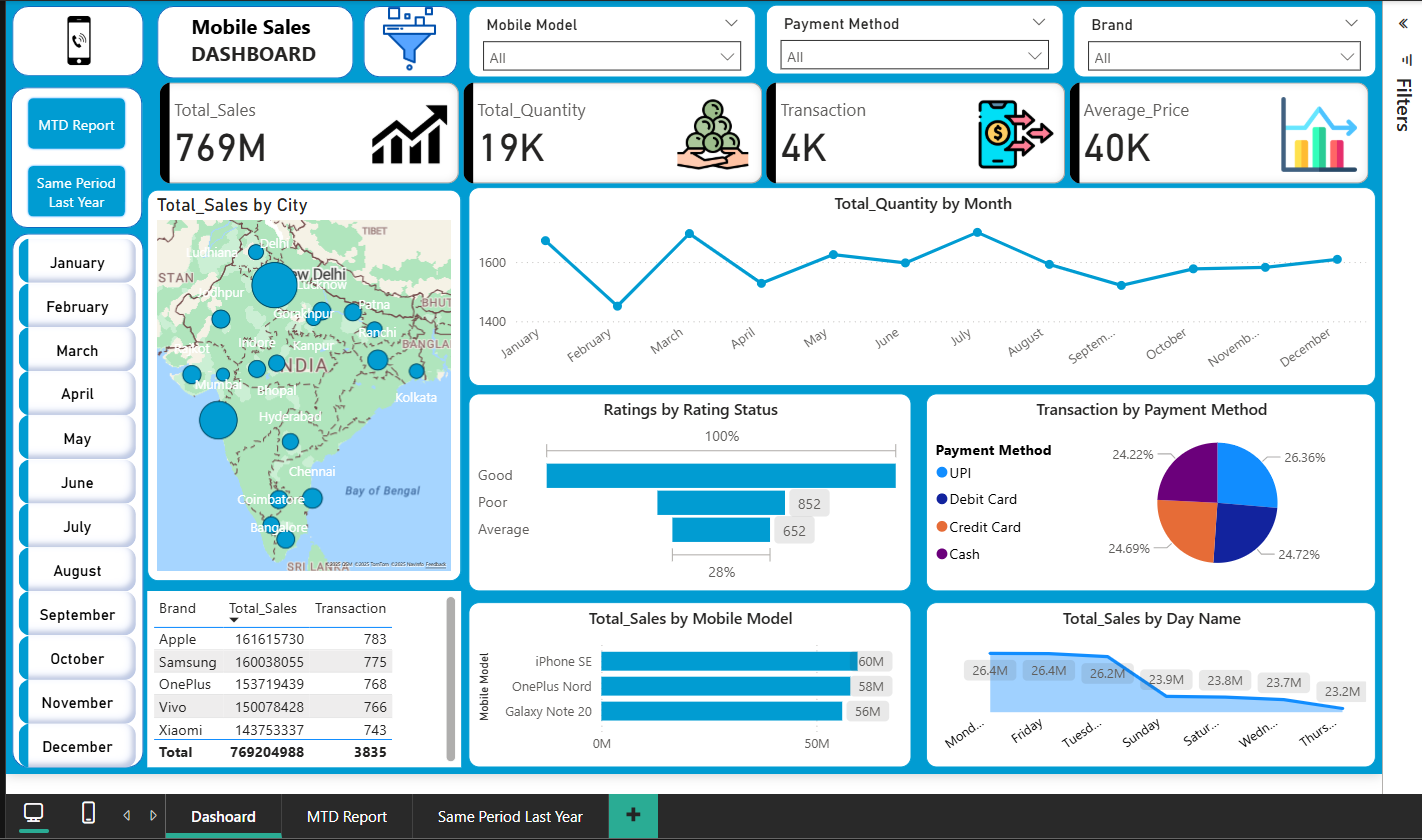

The dashboard page shown, as its layout file describes it:
{"tool":"powerbi","page":{"name":"Dashoard","canvas":[1280,720],"ordinal":0},"visuals":[{"type":"shape","box":[5.8,4.7,122.1,65.1],"z":0},{"type":"image","box":[26.7,3.5,82.6,66.3],"z":1000},{"type":"shape","box":[4.9,80.2,122.2,131],"z":2000},{"type":"shape","box":[5.8,216.3,122.1,497],"z":3000},{"type":"advancedSlicerVisual","fields":{"Values":["Custom_Calender.Date.Variation.Date Hierarchy.Month"]},"box":[7.4,216.1,119.8,503.7],"z":4000},{"type":"cardVisual","fields":{"Data":["Sales_Data.Total_Sales","Sales_Data.Total_Quantity","Sales_Data.Transaction","Sales_Data.Average_Price"]},"box":[138.4,70.9,1136,104.7],"z":5000},{"type":"slicer","fields":{"Values":["Sales_Data.Mobile Model"]},"box":[430.2,4.7,267.4,66.3],"z":6000},{"type":"slicer","fields":{"Values":["Sales_Data.Payment Method"]},"box":[707,3.5,276.7,65.1],"z":7000},{"type":"slicer","fields":{"Values":["Sales_Data.Brand"]},"box":[993,4.7,281.4,66.3],"z":8000},{"type":"shape","box":[332.6,4.7,87.2,66.3],"z":9000},{"type":"image","box":[320.9,0,109.3,70.9],"z":10000},{"type":"shape","box":[140.7,4.7,182.6,67.4],"z":11000},{"type":"textbox","box":[154.7,5.8,151.2,59.3],"z":12000},{"type":"azureMap","fields":{"Category":["Sales_Data.City"],"Size":["Sales_Data.Total_Sales"]},"box":[131.4,175.6,291.9,364],"z":13000},{"type":"lineChart","fields":{"Y":["Sales_Data.Total_Quantity"],"Category":["Custom_Calender.Date.Variation.Date Hierarchy.Month"]},"box":[430.2,173.3,844.2,184.9],"z":14000},{"type":"funnel","title":" Ratings by Rating Status","fields":{"Category":["Sales_Data.Rating Status"],"Y":["CountNonNull(Sales_Data.Customer Ratings)"]},"box":[430.2,365.1,411.6,183.7],"z":15000},{"type":"pieChart","fields":{"Category":["Sales_Data.Payment Method"],"Y":["Sales_Data.Transaction"]},"box":[855.8,365.1,418.6,183.7],"z":16000},{"type":"clusteredBarChart","fields":{"Y":["Sales_Data.Total_Sales"],"Category":["Sales_Data.Mobile Model"]},"box":[430.2,559.3,411.6,153.5],"z":17000},{"type":"areaChart","fields":{"Y":["Sales_Data.Total_Sales"],"Category":["Custom_Calender.Day Name"]},"box":[855.8,559.3,418.6,153.5],"z":18000},{"type":"tableEx","fields":{"Values":["Sales_Data.Brand","Sales_Data.Total_Sales","Sales_Data.Transaction"]},"box":[131.4,548.8,291.9,164],"z":19000},{"type":"pageNavigator","box":[18.6,88.4,94.2,115.1],"z":20000}]}

Visuals, with their boxes on the page's 1280x720 design canvas (x1, y1, x2, y2). These are canvas units, not pixel positions in the 1422x840 screenshot, which may show the page scaled, cropped or inside an application window:
shape: locate(6, 5, 128, 70)
image: locate(27, 4, 109, 70)
shape: locate(5, 80, 127, 211)
shape: locate(6, 216, 128, 713)
advancedSlicerVisual - Custom_Calender.Date.Variation.Date Hierarchy.Month: locate(7, 216, 127, 720)
cardVisual - Sales_Data.Total_Sales x Sales_Data.Total_Quantity: locate(138, 71, 1274, 176)
slicer - Sales_Data.Mobile Model: locate(430, 5, 698, 71)
slicer - Sales_Data.Payment Method: locate(707, 4, 984, 69)
slicer - Sales_Data.Brand: locate(993, 5, 1274, 71)
shape: locate(333, 5, 420, 71)
image: locate(321, 0, 430, 71)
shape: locate(141, 5, 323, 72)
textbox: locate(155, 6, 306, 65)
azureMap - Sales_Data.City x Sales_Data.Total_Sales: locate(131, 176, 423, 540)
lineChart - Sales_Data.Total_Quantity x Custom_Calender.Date.Variation.Date Hierarchy.Month: locate(430, 173, 1274, 358)
" Ratings by Rating Status" funnel: locate(430, 365, 842, 549)
pieChart - Sales_Data.Payment Method x Sales_Data.Transaction: locate(856, 365, 1274, 549)
clusteredBarChart - Sales_Data.Total_Sales x Sales_Data.Mobile Model: locate(430, 559, 842, 713)
areaChart - Sales_Data.Total_Sales x Custom_Calender.Day Name: locate(856, 559, 1274, 713)
tableEx - Sales_Data.Brand x Sales_Data.Total_Sales: locate(131, 549, 423, 713)
pageNavigator: locate(19, 88, 113, 204)
